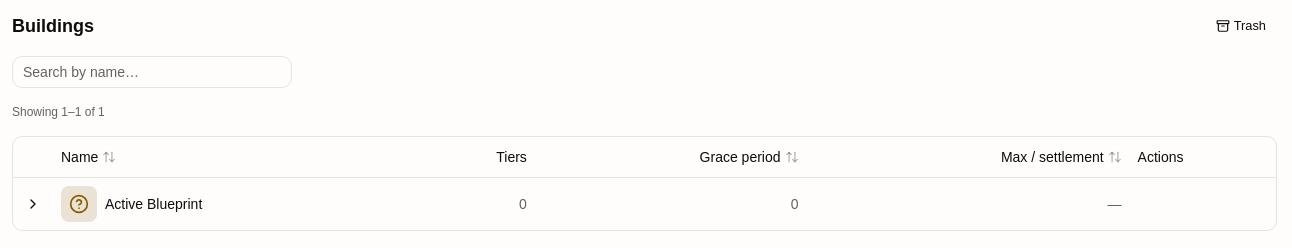
BuildingsConfigPanel › shows trashed blueprints when trash view is toggled
Check: the text "Active Blueprint" is shown, box [105,194,202,214]
Check: the text "Trashed Blueprint" is not shown
Click the button with aria-label "Show trash" at (1241, 26), box [1205,12,1277,40]
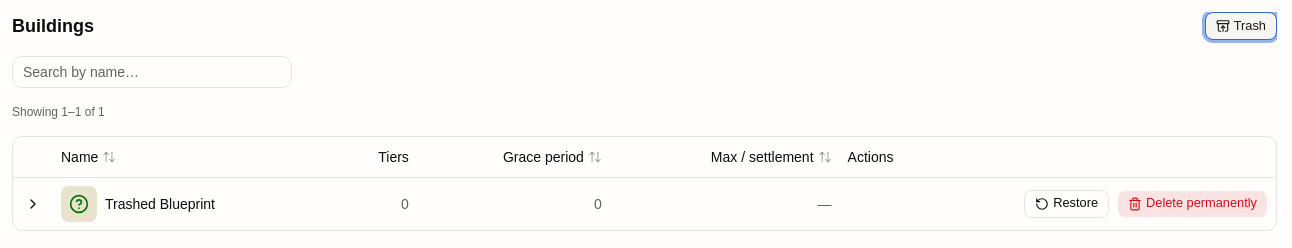
Check: the text "Trashed Blueprint" is shown, box [105,194,215,214]
Check: the button with aria-label "Hide trash" is shown, box [1205,12,1277,40]
